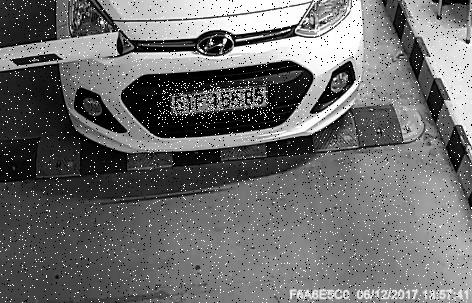License-plate: (158, 82, 276, 121)
